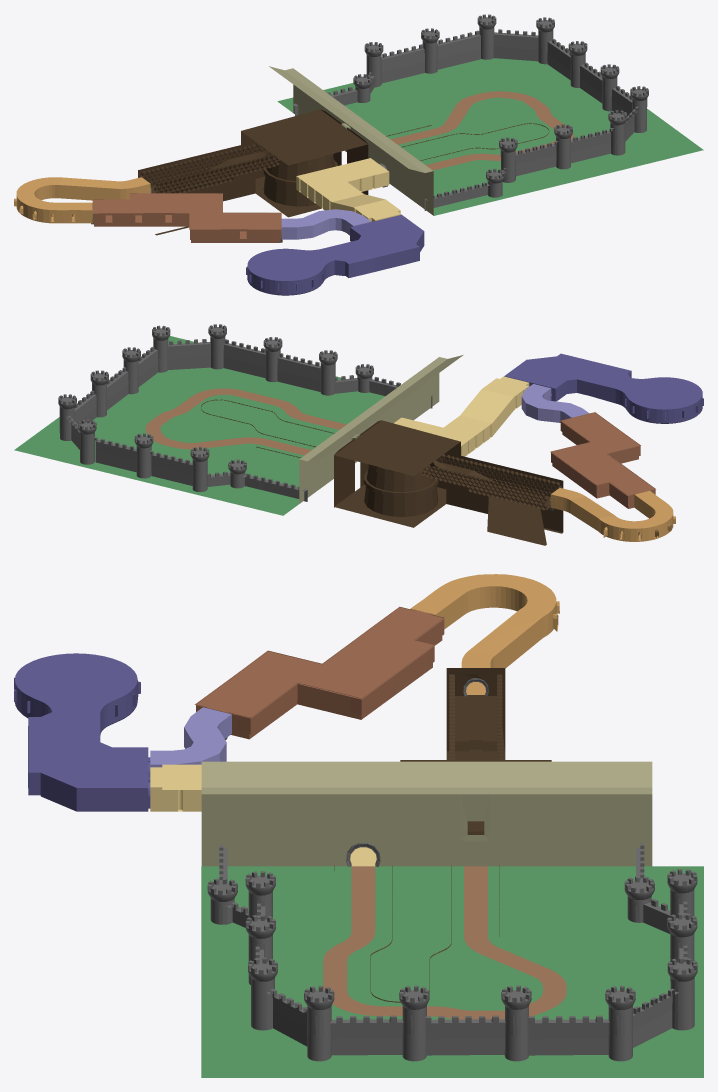
Rendered from Circuit_Template.FBX.
The picture shows the model from 3 angles, top to bottom: view 1: azimuth 30°, elevation 25°; view 2: azimuth 150°, elevation 25°; view 3: azimuth 270°, elevation 25°; orthographic projection. The views are drawn at different scales.
Visible parts, largest first — view 1: CheckPoint_0_Template_Floor_Lateral, CheckPoint_0_Template_Walls_External, Checkpoint_2_Template_Ceiling, CheckPoint_0_Template_Walls_Facade, Checkpoint_4_Template_Ceiling, CheckPoint_6_Template_Ceiling, CheckPoint_6_Template_Walls_Barrels, Checkpoint_1_Template_Ceiling, CheckPoint_2_Template_Walls, CheckPoint_4_Template_Walls, CheckPoint_5_Template_Walls, CheckPoint_0_Template_Floor_Central (+7 smaller); view 2: CheckPoint_0_Template_Floor_Lateral, CheckPoint_0_Template_Walls_External, CheckPoint_6_Template_Walls, CheckPoint_0_Template_Walls_Facade, Checkpoint_2_Template_Ceiling, Checkpoint_4_Template_Ceiling, CheckPoint_6_Template_Ceiling, CheckPoint_6_Template_Walls_Barrels, CheckPoint_0_Template_Floor_Central, CheckPoint_6_Template_Floor_Big_Barrel, Checkpoint_1_Template_Ceiling, CheckPoint_2_Template_Walls (+8 smaller); view 3: CheckPoint_0_Template_Floor_Lateral, CheckPoint_0_Template_Walls_Facade, CheckPoint_0_Template_Walls_External, Checkpoint_2_Template_Ceiling, Checkpoint_4_Template_Ceiling, CheckPoint_0_Template_Floor_Central, CheckPoint_4_Template_Walls, CheckPoint_2_Template_Walls, Checkpoint_5_Template_Ceiling, CheckPoint_5_Template_Walls, CheckPoint_3_Template_Ceiling, CheckPoint_6_Template_Floor (+4 smaller).
Part boxes in pixels (bbox=[...]): CheckPoint_0_Template_Floor_Lateral: bbox=[277, 42, 703, 215]; CheckPoint_0_Template_Walls_External: bbox=[292, 14, 648, 210]; Checkpoint_2_Template_Ceiling: bbox=[247, 214, 423, 280]; CheckPoint_0_Template_Walls_Facade: bbox=[269, 66, 433, 215]; Checkpoint_4_Template_Ceiling: bbox=[92, 193, 281, 229]; CheckPoint_6_Template_Ceiling: bbox=[241, 109, 367, 165]; CheckPoint_6_Template_Walls_Barrels: bbox=[139, 143, 280, 193]; Checkpoint_1_Template_Ceiling: bbox=[296, 158, 400, 220]; CheckPoint_2_Template_Walls: bbox=[246, 227, 424, 295]; CheckPoint_4_Template_Walls: bbox=[92, 193, 281, 242]; CheckPoint_5_Template_Walls: bbox=[14, 184, 150, 223]; CheckPoint_0_Template_Floor_Central: bbox=[391, 91, 573, 170]; CheckPoint_0_Template_Floor_Lateral: bbox=[14, 336, 384, 515]; CheckPoint_0_Template_Walls_External: bbox=[58, 324, 434, 501]; CheckPoint_6_Template_Walls: bbox=[334, 420, 563, 545]; CheckPoint_0_Template_Walls_Facade: bbox=[299, 355, 463, 503]; Checkpoint_2_Template_Ceiling: bbox=[504, 353, 702, 409]; Checkpoint_4_Template_Ceiling: bbox=[550, 412, 655, 495]; CheckPoint_6_Template_Ceiling: bbox=[334, 420, 460, 475]; CheckPoint_6_Template_Walls_Barrels: bbox=[420, 454, 561, 510]; CheckPoint_0_Template_Floor_Central: bbox=[145, 388, 346, 455]; CheckPoint_6_Template_Floor_Big_Barrel: bbox=[363, 464, 438, 516]; Checkpoint_1_Template_Ceiling: bbox=[393, 376, 528, 445]; CheckPoint_2_Template_Walls: bbox=[504, 371, 703, 423]; CheckPoint_0_Template_Floor_Lateral: bbox=[201, 866, 703, 1077]; CheckPoint_0_Template_Walls_Facade: bbox=[201, 761, 652, 866]; CheckPoint_0_Template_Walls_External: bbox=[207, 843, 697, 1061]; Checkpoint_2_Template_Ceiling: bbox=[14, 653, 148, 787]; Checkpoint_4_Template_Ceiling: bbox=[194, 607, 444, 718]; CheckPoint_0_Template_Floor_Central: bbox=[323, 866, 566, 1019]; CheckPoint_4_Template_Walls: bbox=[196, 607, 444, 739]; CheckPoint_2_Template_Walls: bbox=[14, 677, 148, 811]; Checkpoint_5_Template_Ceiling: bbox=[410, 574, 556, 667]; CheckPoint_5_Template_Walls: bbox=[411, 586, 559, 668]; CheckPoint_3_Template_Ceiling: bbox=[150, 707, 231, 764]; CheckPoint_6_Template_Floor: bbox=[455, 695, 496, 741].
Bounding box in the file's own units: 551 × 70.56 × 346.
